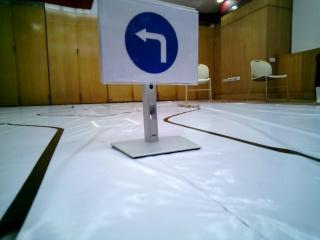left: (108, 7, 197, 81)
